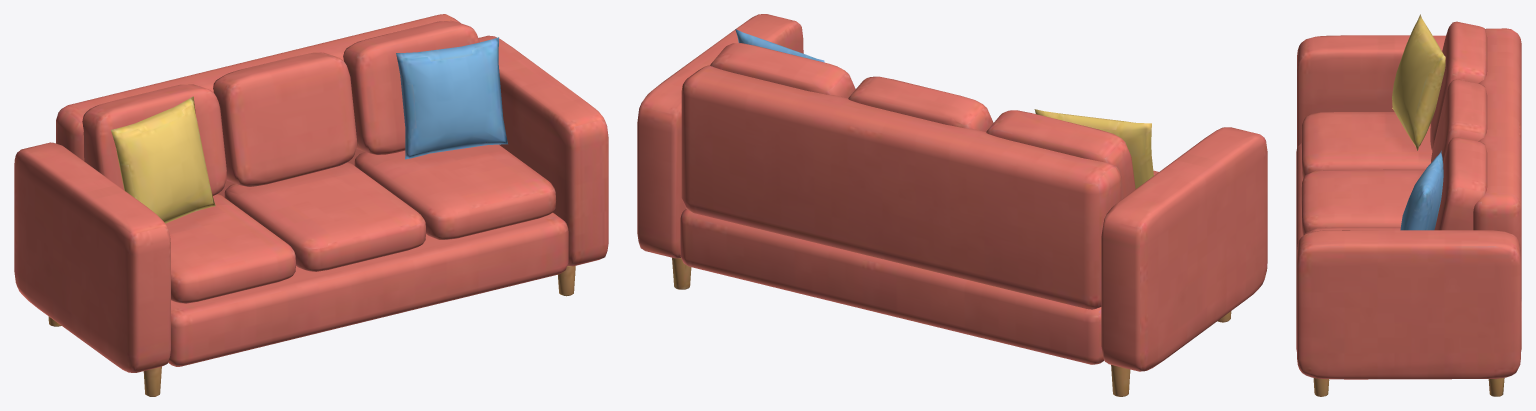
The model's file is sofa.glb.
3 renders of one model, left to right at view 1: azimuth 30°, elevation 25°; view 2: azimuth 150°, elevation 25°; view 3: azimuth 270°, elevation 25°, orthographic. The views are drawn at different scales.
Parts seen in each view (by area): view 1: sofa_body; view 2: sofa_body; view 3: sofa_body.
Part boxes in pixels (bbox=[...]): sofa_body: bbox=[14, 14, 608, 396]; sofa_body: bbox=[637, 14, 1267, 396]; sofa_body: bbox=[1296, 14, 1521, 396].
Size of the model in its own units: 2.02 by 0.8943 by 0.9.
Materials: 1 (1 with a texture image).
